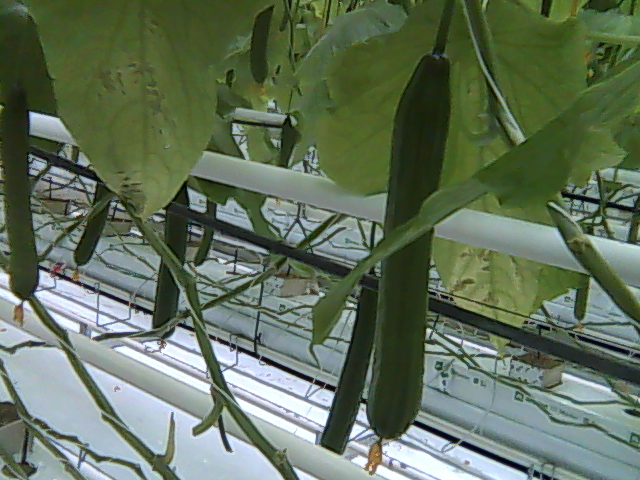concombre: (360, 42, 458, 474), (1, 72, 45, 325)
